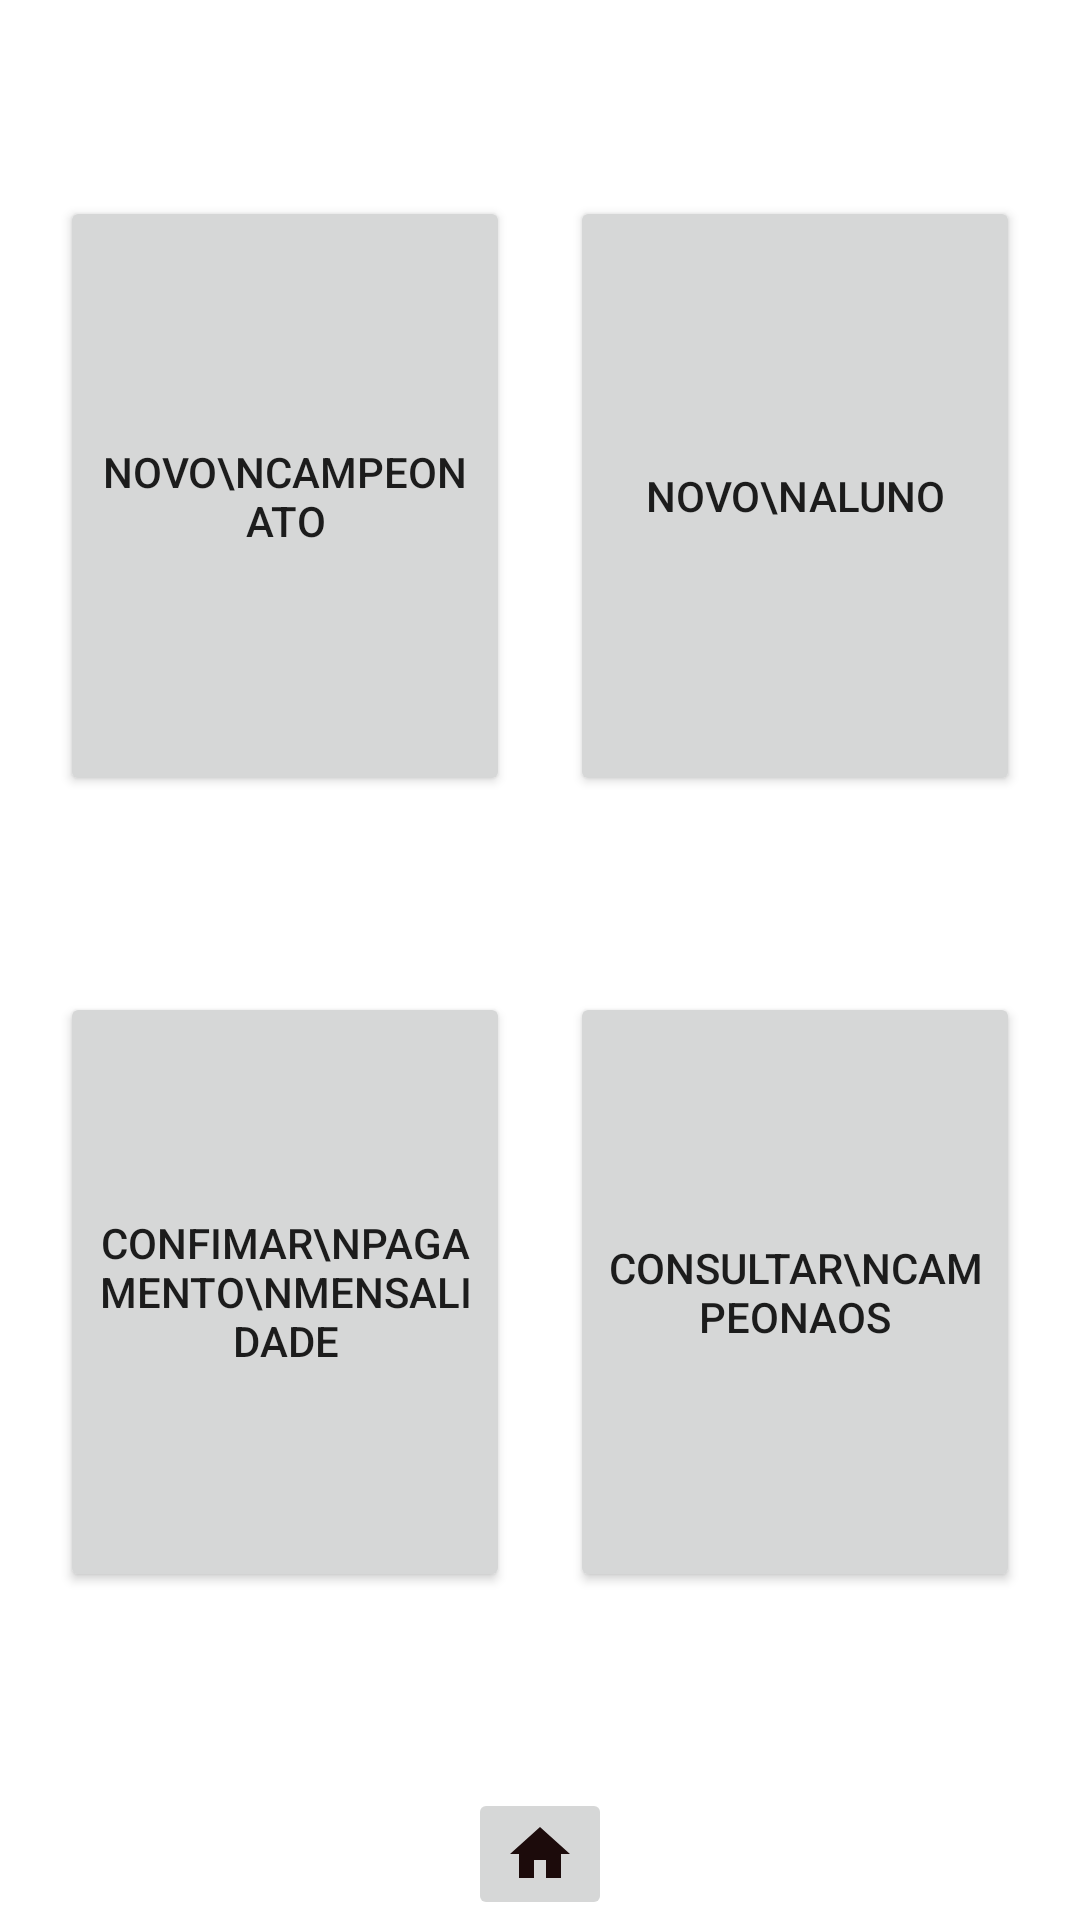

Where icons sit on this 1080px x 1920px app screen, as (x1, y1, x2, y2):
home: (480, 1806, 600, 1902)
